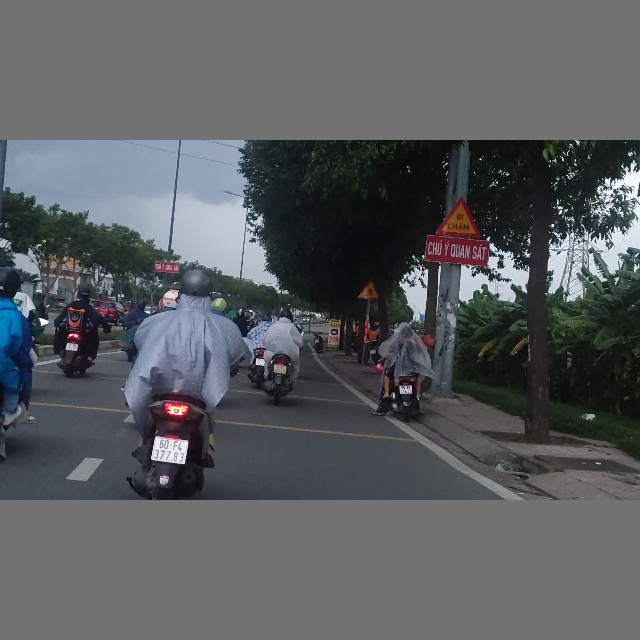W.224: (359, 279, 381, 299)
W.245a: (435, 196, 482, 237)
